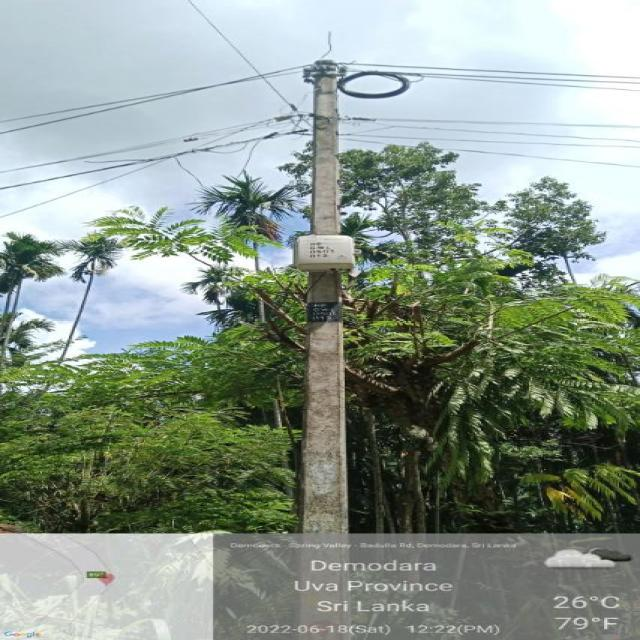light_pole: (270, 53, 378, 543)
